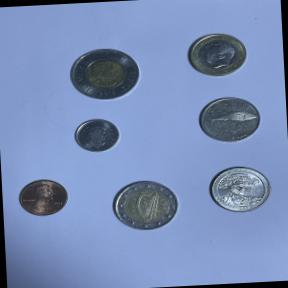coin: (66, 46, 144, 105), (107, 177, 182, 234), (206, 162, 276, 218), (194, 92, 264, 146), (183, 30, 251, 82), (14, 176, 72, 220), (70, 116, 124, 156)
